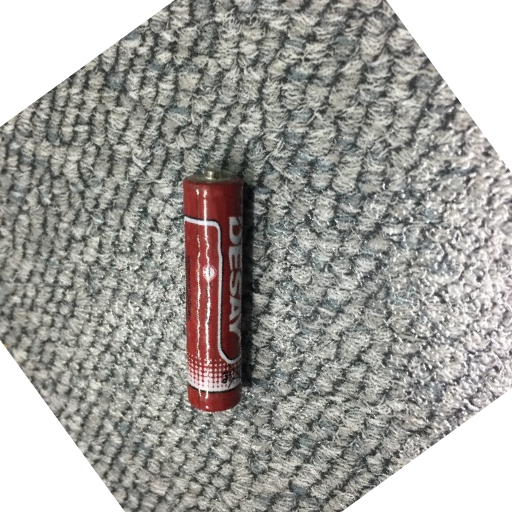Battery_0: (173, 160, 253, 421)
